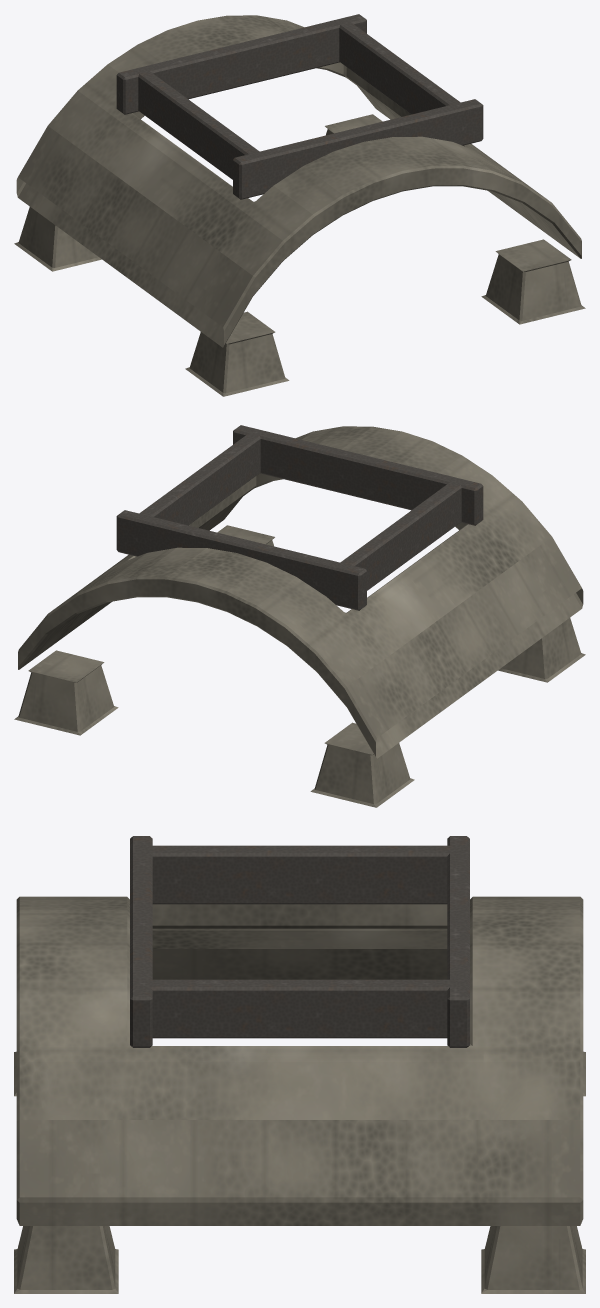
Rendered from WK_ARCH_BAY_OCULUS_A_01.glb.
The picture shows the model from 3 angles, top to bottom: view 1: azimuth 30°, elevation 25°; view 2: azimuth 150°, elevation 25°; view 3: azimuth 270°, elevation 25°; orthographic projection. The views are drawn at different scales.
Parts seen in each view (by area): view 1: WK_ARCH_BAY_OCULUS_A_01; view 2: WK_ARCH_BAY_OCULUS_A_01; view 3: WK_ARCH_BAY_OCULUS_A_01.
Boxes of the visible parts, x1=… form: WK_ARCH_BAY_OCULUS_A_01: x1=14, y1=14, x2=585, y2=396; WK_ARCH_BAY_OCULUS_A_01: x1=14, y1=425, x2=585, y2=807; WK_ARCH_BAY_OCULUS_A_01: x1=14, y1=836, x2=585, y2=1293.
Bounding box in the file's own units: 4.04 × 2 × 4.04.
Materials: 2 (2 with a texture image).
